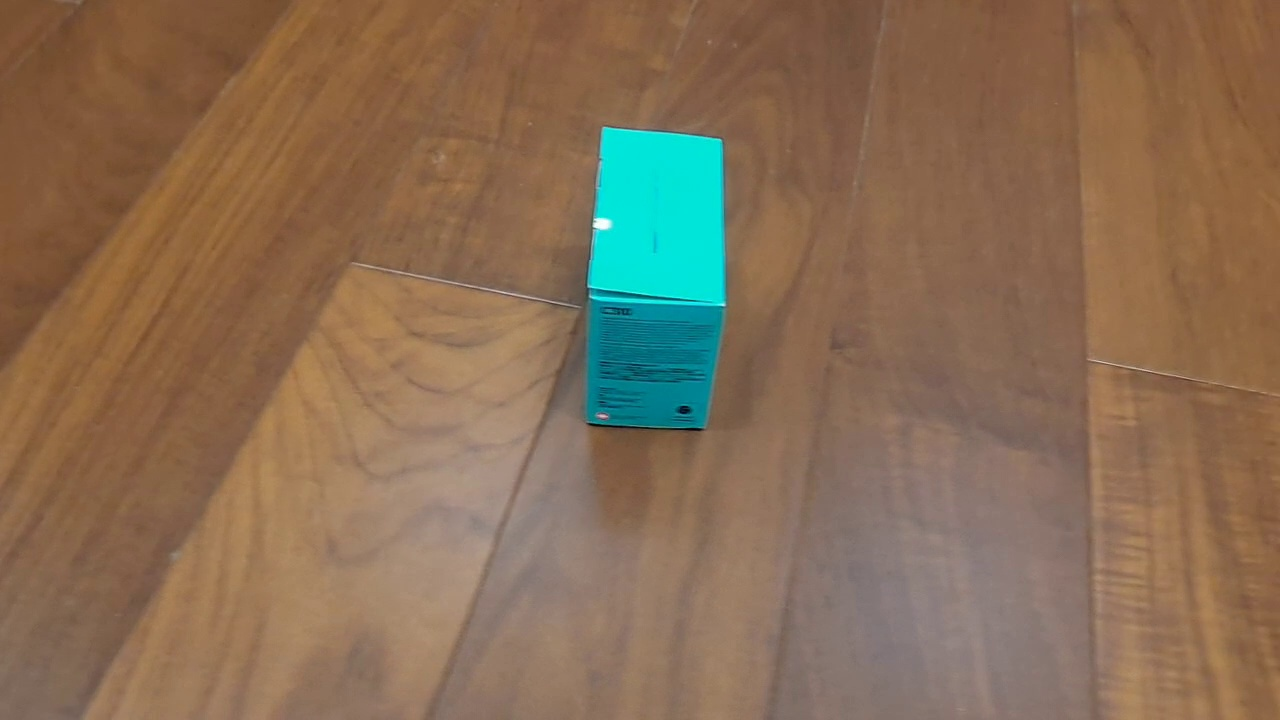webcam: (580, 124, 731, 433)
